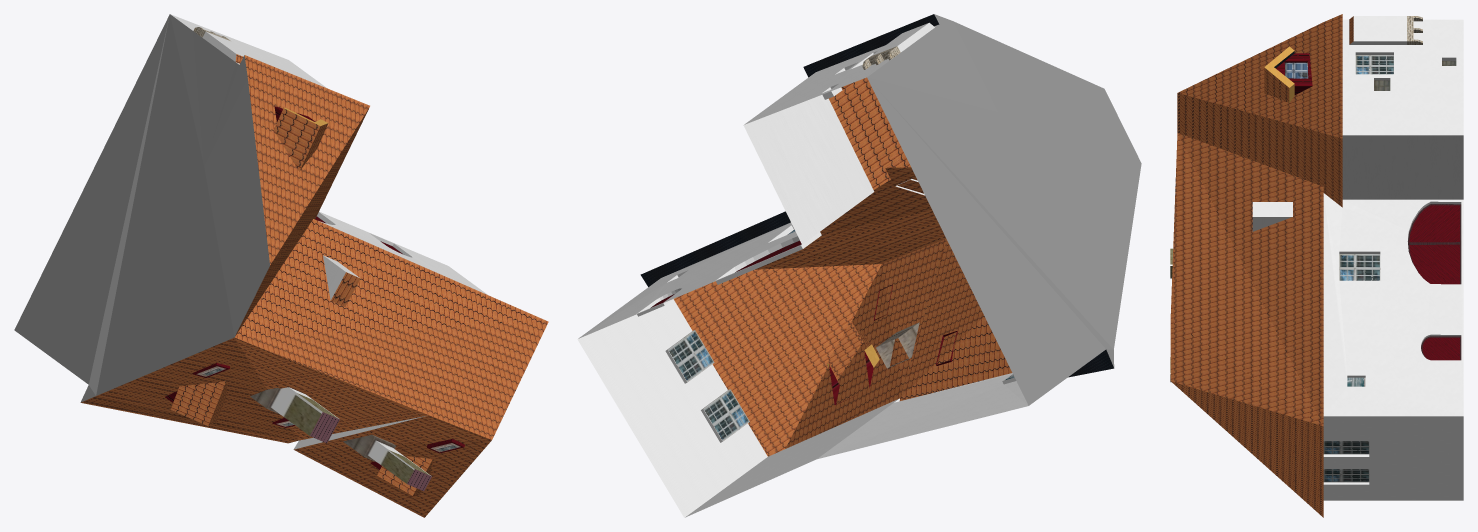
The model's file is Lai_30a.obj.
3 renders of one model, left to right at view 1: azimuth 30°, elevation 25°; view 2: azimuth 150°, elevation 25°; view 3: azimuth 270°, elevation 25°, orthographic. The views are drawn at different scales.
Parts seen in each view (by area): view 1: Lai_30a; view 2: Lai_30a; view 3: Lai_30a.
Boxes of the visible parts, left/top/right/bottom form: Lai_30a: left=14, top=14, right=548, bottom=517; Lai_30a: left=577, top=14, right=1141, bottom=517; Lai_30a: left=1170, top=14, right=1463, bottom=517.
Size of the model in its own units: 21.63 by 22.2 by 13.67.
